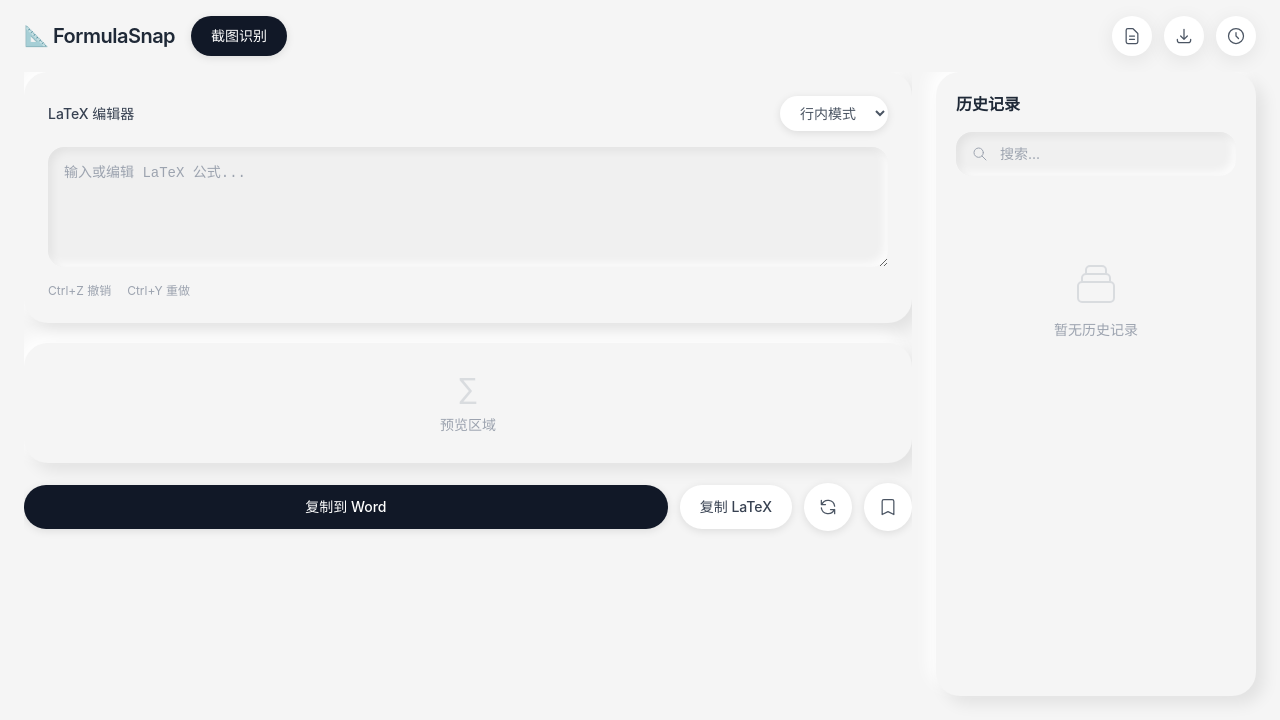
Test: App Shell › shows capture overlay when capture button is clicked
This screenshot has width=1280, height=720.
Click the button with test id "capture-btn".
click(239, 36)  # box [191,16,287,56]
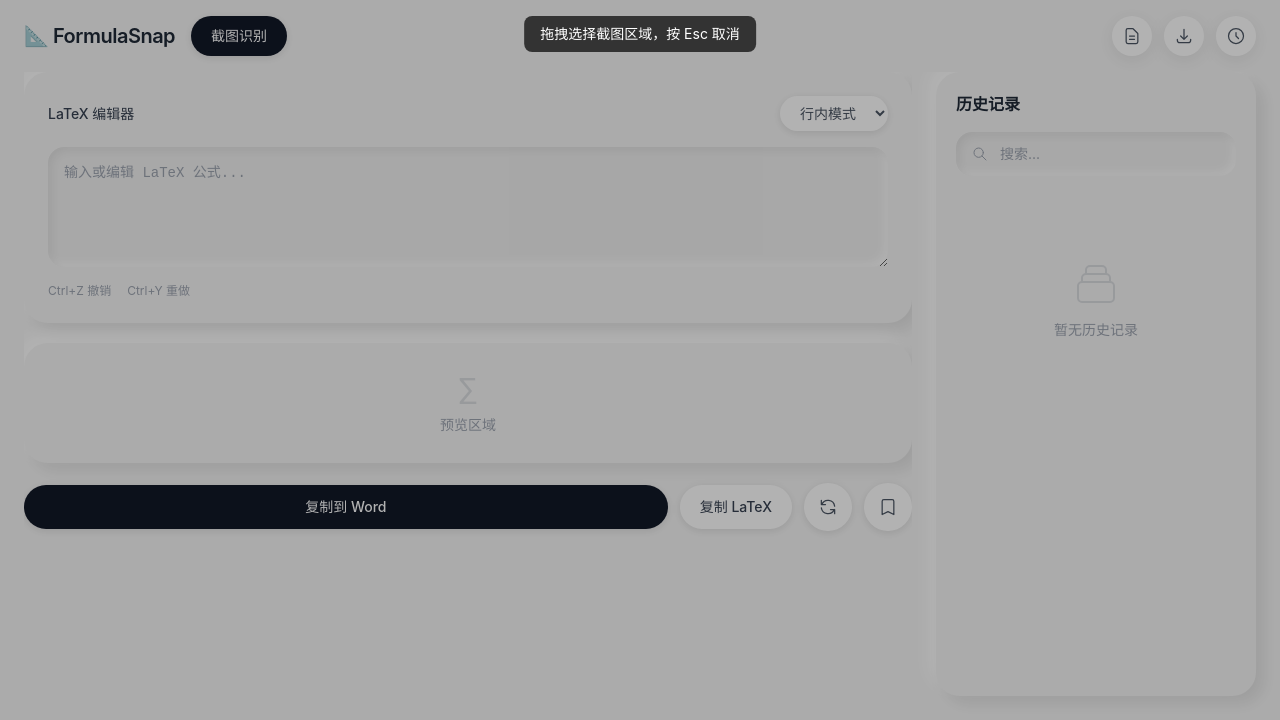
Result: the dialog with test id "capture-overlay" is shown
